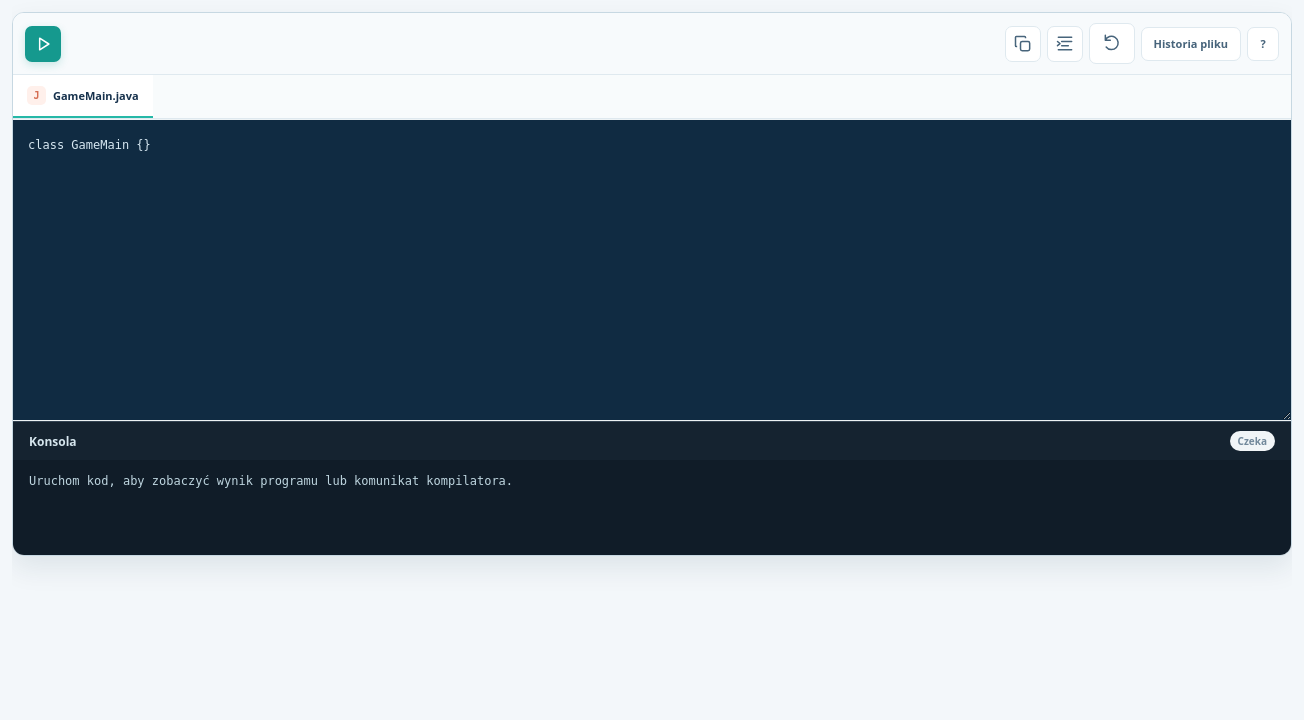
it: keeps displayed source aligned with accepted files when a paste exceeds the project limit
Replace the text in the text box named "Kod pliku GameMain.java" with "too large". click: x=652, y=270
box: [13,120,1291,420]
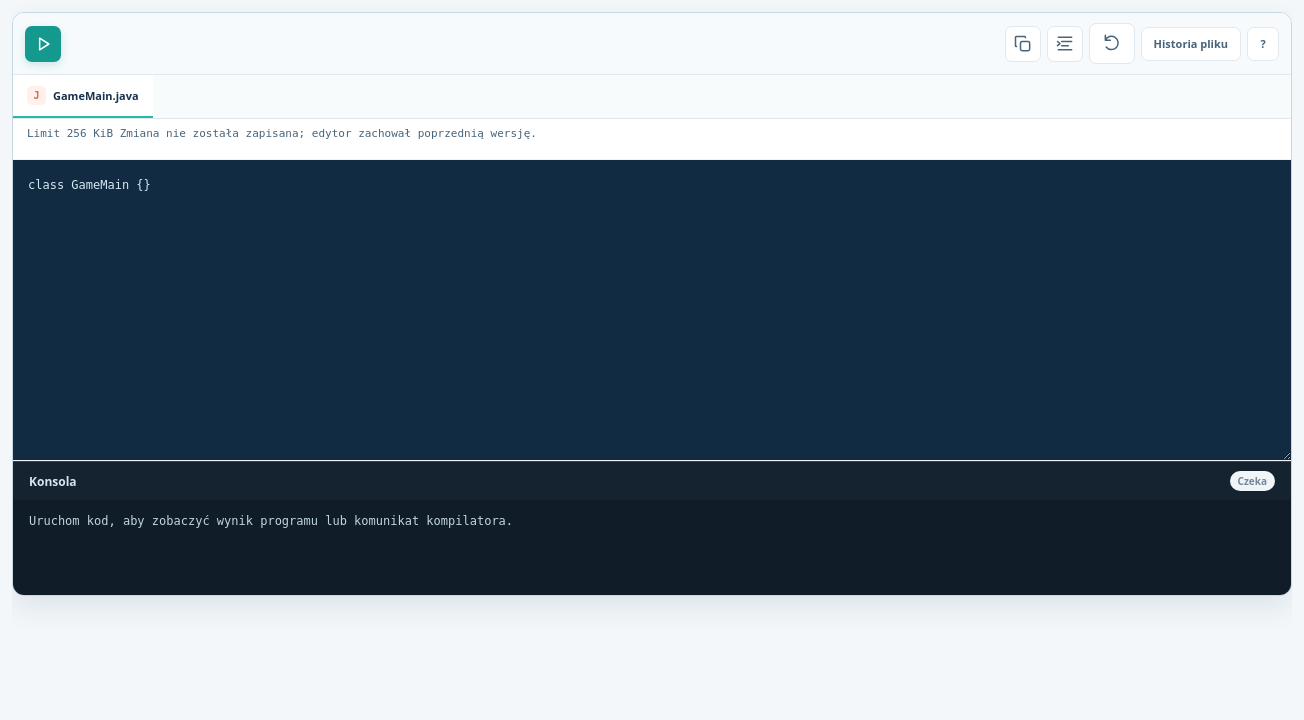
Expected: the text box named "Kod pliku GameMain.java" holds "class GameMain {}", [13,160,1291,460]
Expected: the message "Limit 256 KiB Zmiana nie została zapisana; edytor zachował poprzednią wersję." is shown, [27,127,537,140]
